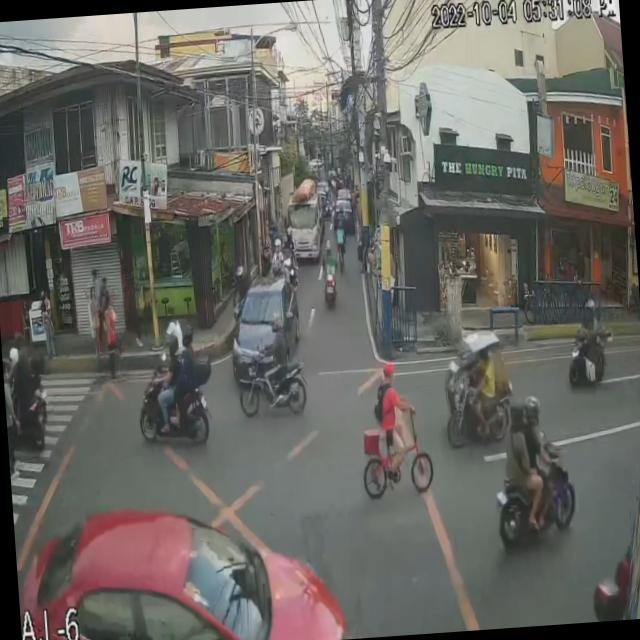full: (522, 393, 542, 429), (580, 294, 598, 324), (178, 324, 196, 350), (267, 310, 284, 336), (7, 348, 20, 370)
half: (508, 396, 527, 434), (163, 332, 180, 358), (272, 238, 282, 252)
